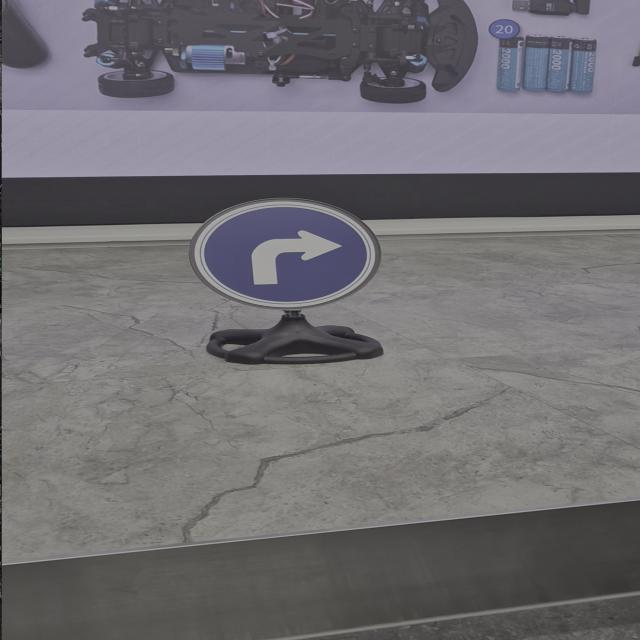right_dierection: (180, 192, 379, 306)
